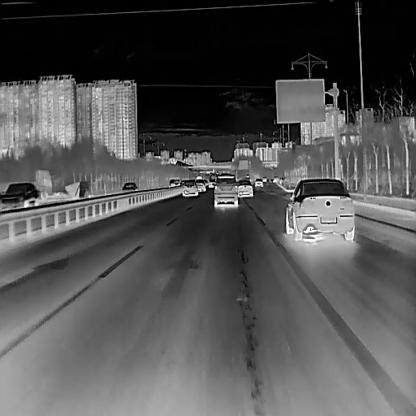car: (284, 177, 355, 240), (0, 181, 40, 207), (213, 171, 237, 208), (181, 178, 197, 196), (236, 180, 252, 196), (120, 181, 138, 192), (254, 176, 262, 186)
truck: (0, 169, 53, 200)
